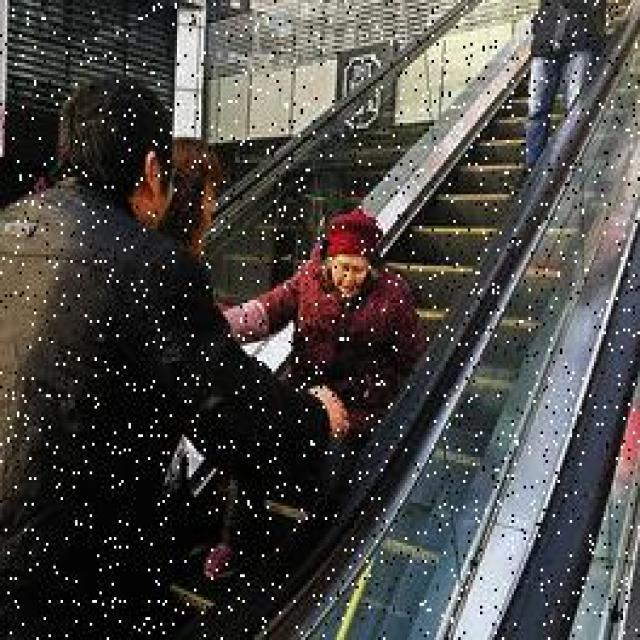fall: (218, 223, 420, 566)
